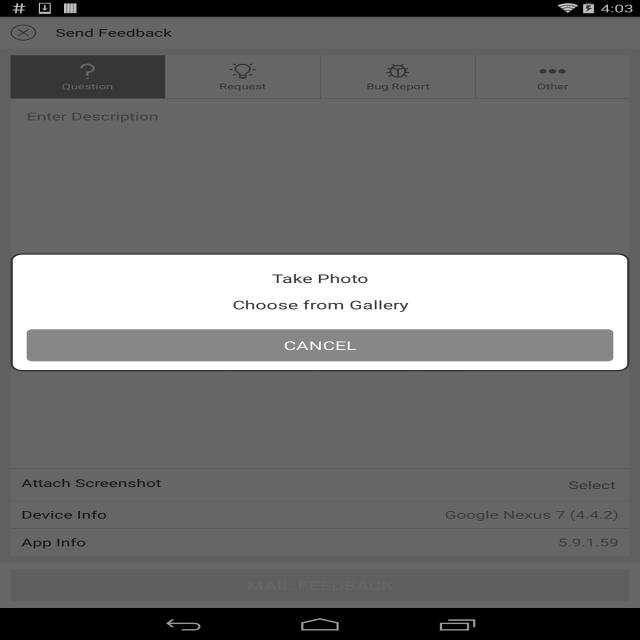Button: (20, 325, 621, 365)
ImageButton: (5, 23, 42, 43)
ImageView: (223, 56, 269, 82), (72, 58, 109, 80)
TextView: (225, 296, 432, 314), (18, 474, 178, 491), (24, 110, 174, 127), (49, 22, 180, 40), (267, 268, 385, 287), (352, 78, 438, 92), (19, 534, 98, 549)
